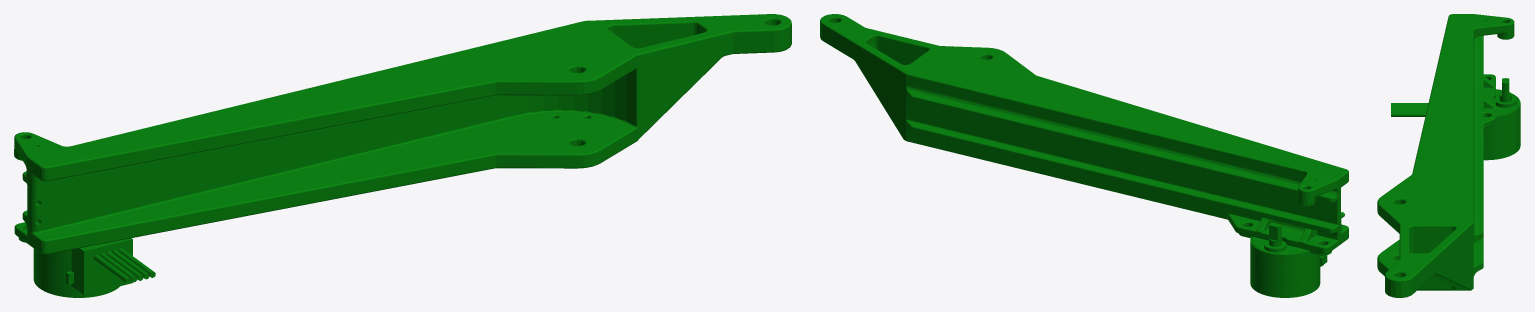
File: upper_arm.dae
The picture shows the model from 3 angles, left to right: view 1: azimuth 30°, elevation 25°; view 2: azimuth 150°, elevation 25°; view 3: azimuth 270°, elevation 25°; orthographic projection. The views are drawn at different scales.
Visible parts, largest first — view 1: Upper Arm W Stepper; view 2: Upper Arm W Stepper; view 3: Upper Arm W Stepper.
Part boxes in pixels (<box>): Upper Arm W Stepper: <box>14,14,791,297</box>; Upper Arm W Stepper: <box>820,14,1348,297</box>; Upper Arm W Stepper: <box>1377,14,1520,297</box>.
Size of the model in its own units: 0.256 by 0.058 by 0.049.
